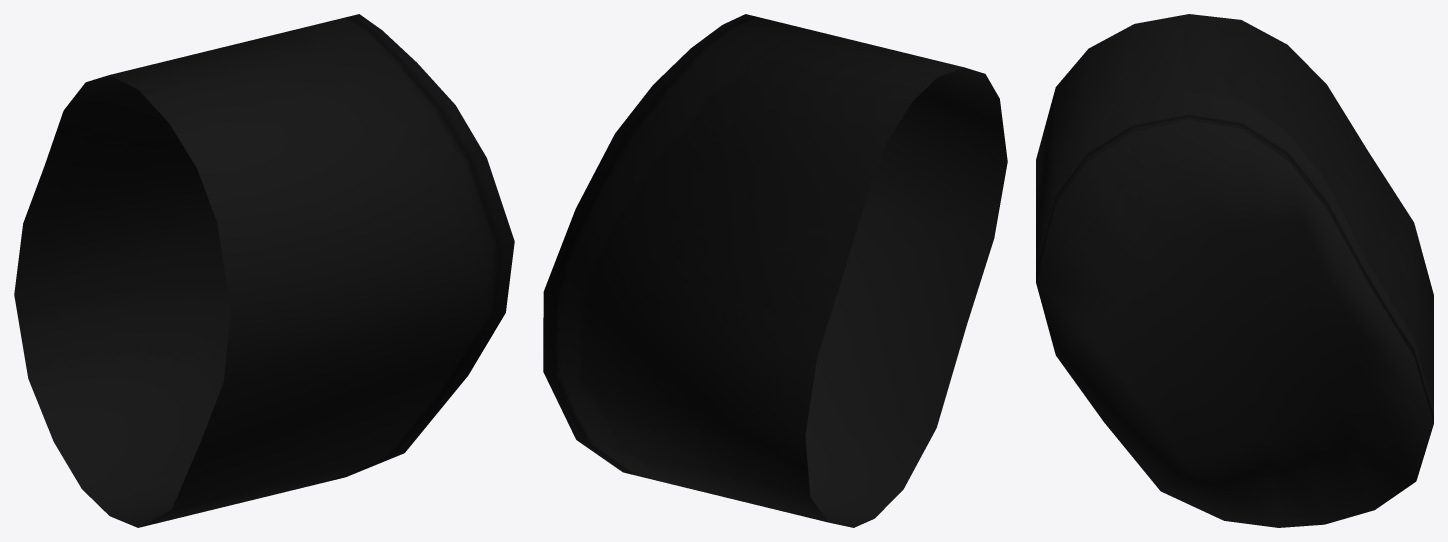
Rendered from YVR_d1_left_grip.obj.
3 views of the same model, side by side, from view 1: azimuth 30°, elevation 25°; view 2: azimuth 150°, elevation 25°; view 3: azimuth 270°, elevation 25° (orthographic). The views are drawn at different scales.
Parts seen in each view (by area): view 1: Object003; view 2: Object003; view 3: Object003.
Part boxes in pixels (x1=…): Object003: x1=14, y1=14, x2=514, y2=527; Object003: x1=543, y1=14, x2=1007, y2=527; Object003: x1=1036, y1=14, x2=1433, y2=527.
Bounding box in the file's own units: 0.0151 × 0.0211 × 0.0182.
Materials: 1 (1 with a texture image).
